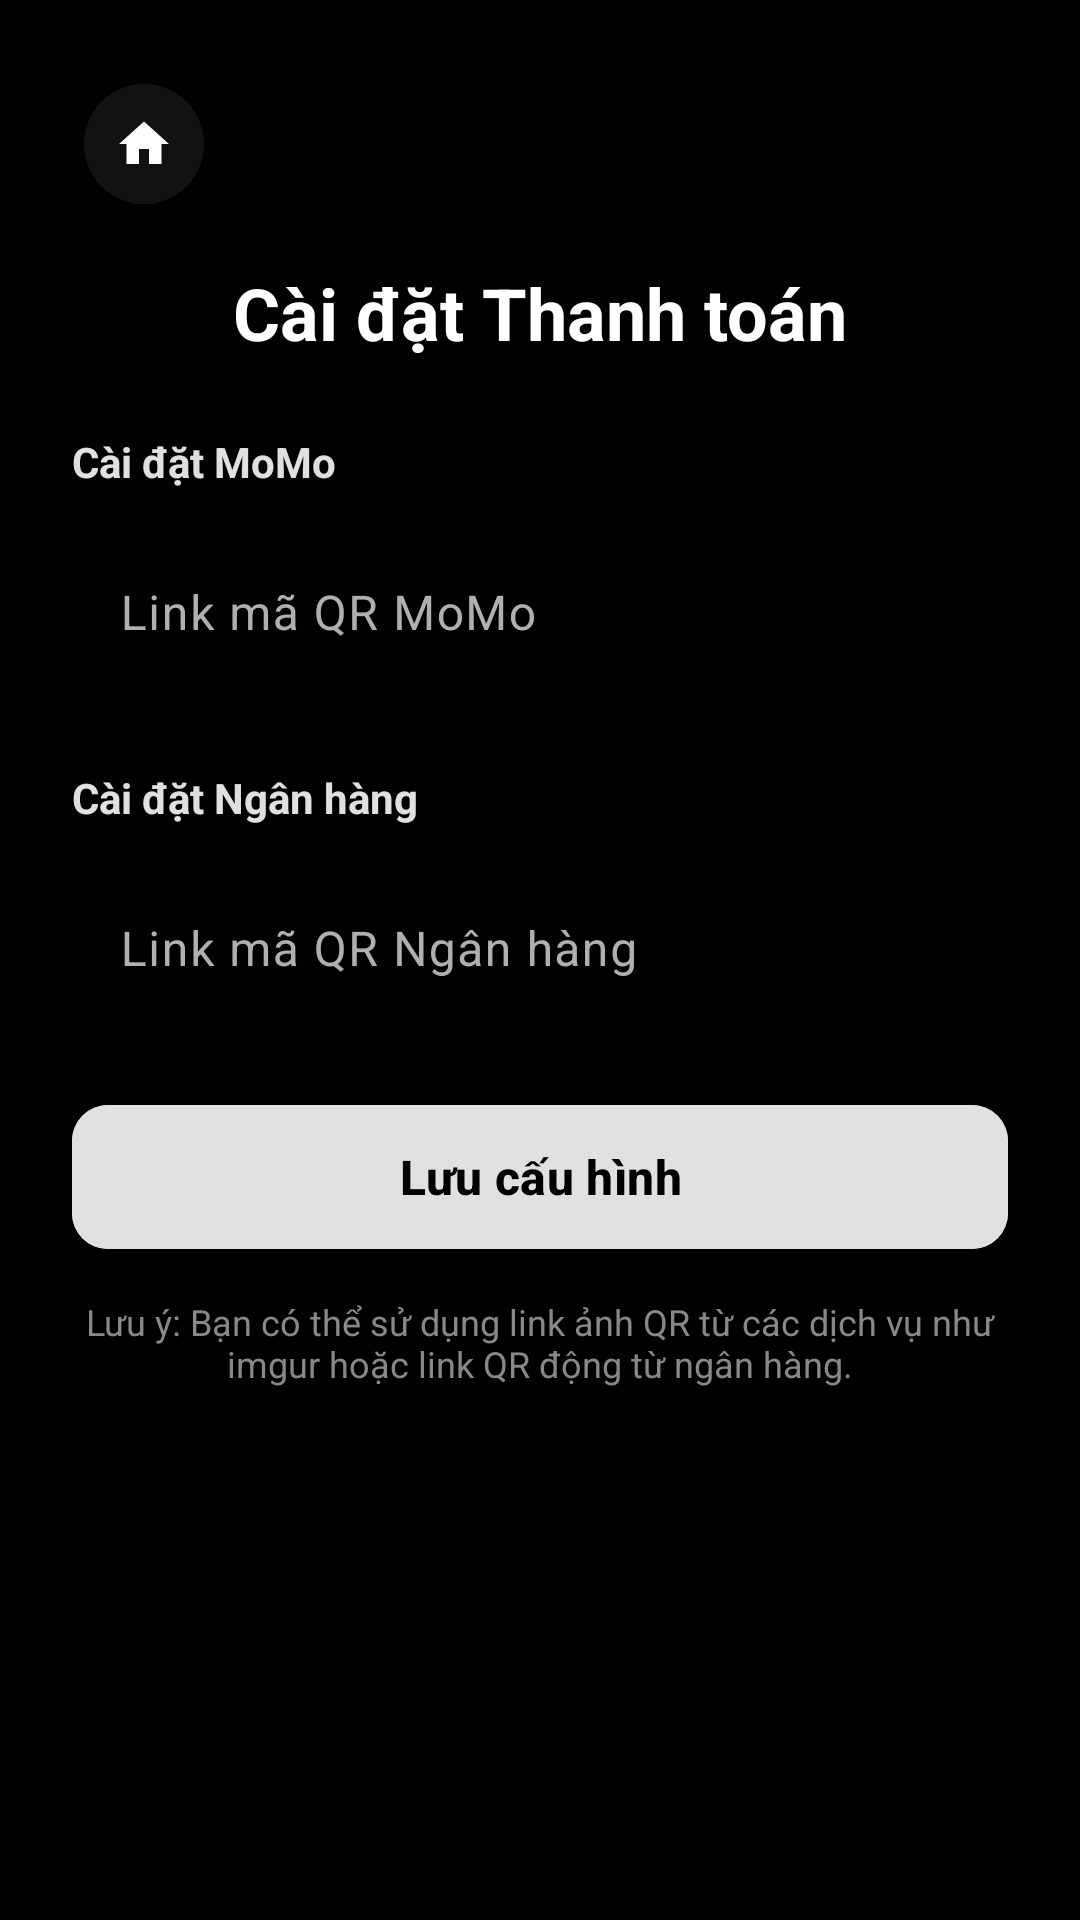

Icon click points for this 1080x1920 phone screenshot, format [x,y]:
home: [144,142]
